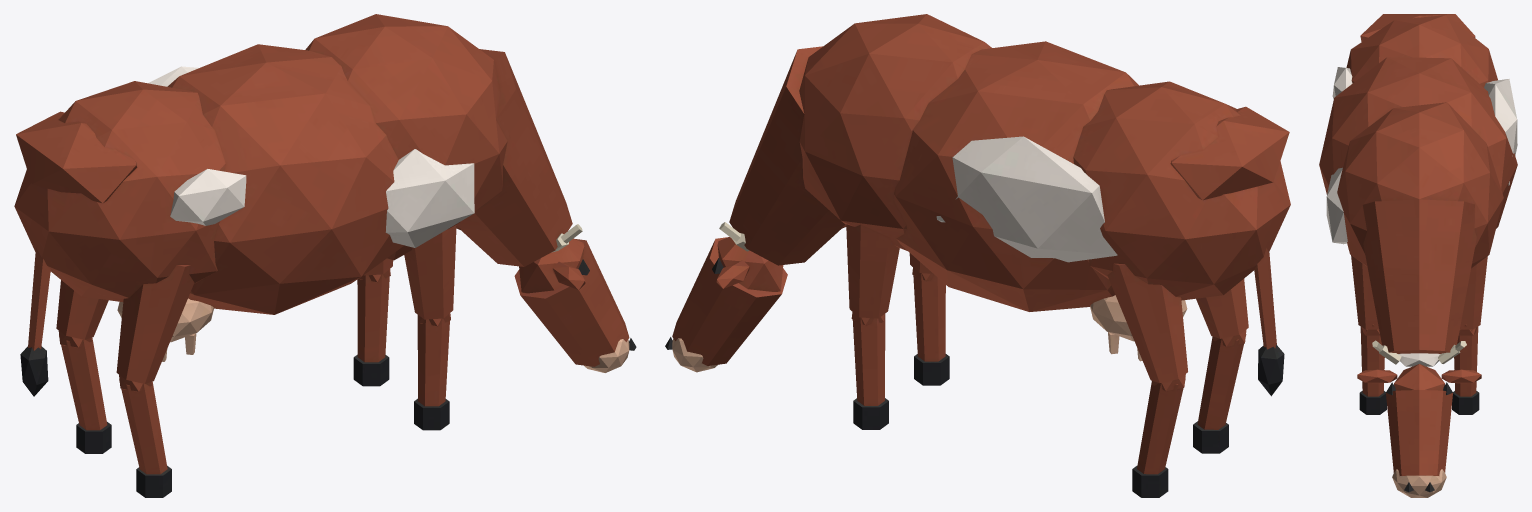
File: ko_bete_tex.glb
3 renders of one model, left to right at view 1: azimuth 30°, elevation 25°; view 2: azimuth 150°, elevation 25°; view 3: azimuth 270°, elevation 25°, orthographic. The views are drawn at different scales.
Parts seen in each view (by area): view 1: ko_bete; view 2: ko_bete; view 3: ko_bete.
Part boxes in pixels (bbox=[...]): ko_bete: bbox=[14, 14, 636, 497]; ko_bete: bbox=[665, 14, 1290, 497]; ko_bete: bbox=[1319, 14, 1517, 497].
Size of the model in its own units: 2.56 by 1.59 by 0.9446.
5 materials, 4 textured.
